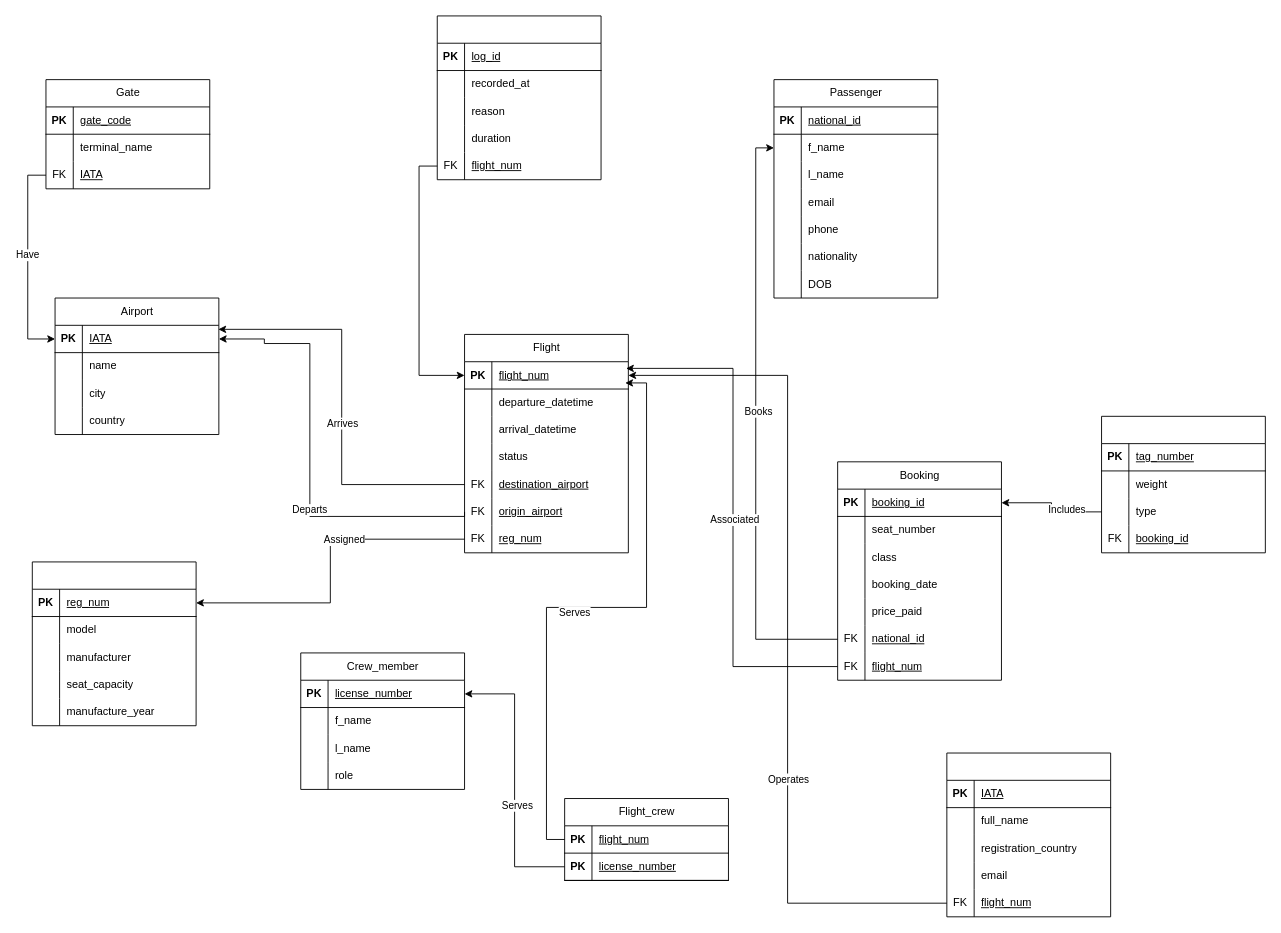
The diagram is 1281 pixels wide and 933 high, and some of its shapes have lost their labels. The shapes that lost their labels are listed below. From the top down, each one's box as (x1, y1, x2, y2) in pixels, then its label:
(436, 15, 601, 180): Delay_log
(1101, 415, 1265, 553): Baggage
(31, 561, 196, 726): Aircraft
(946, 752, 1111, 917): Airline
